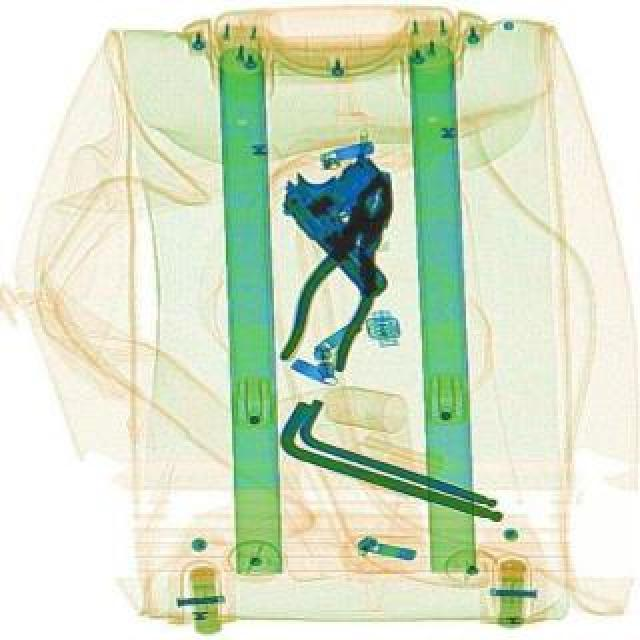gun: (266, 132, 446, 302)
wrench: (272, 160, 416, 380)
